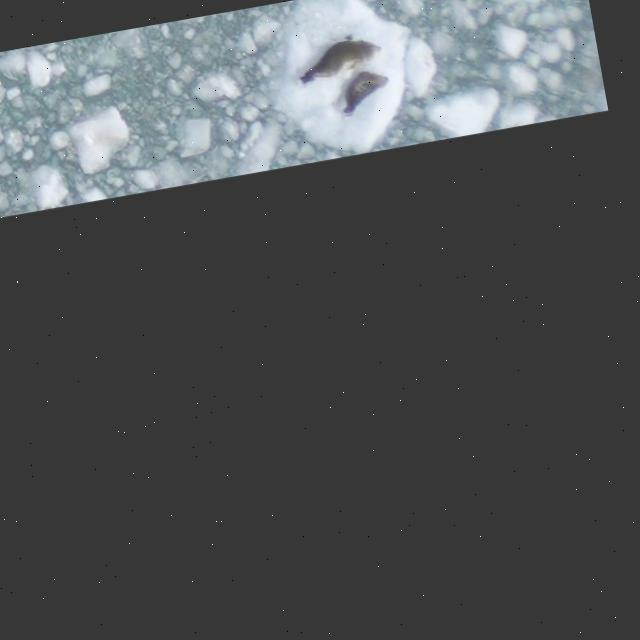seal: (291, 22, 384, 104), (330, 61, 390, 118)
